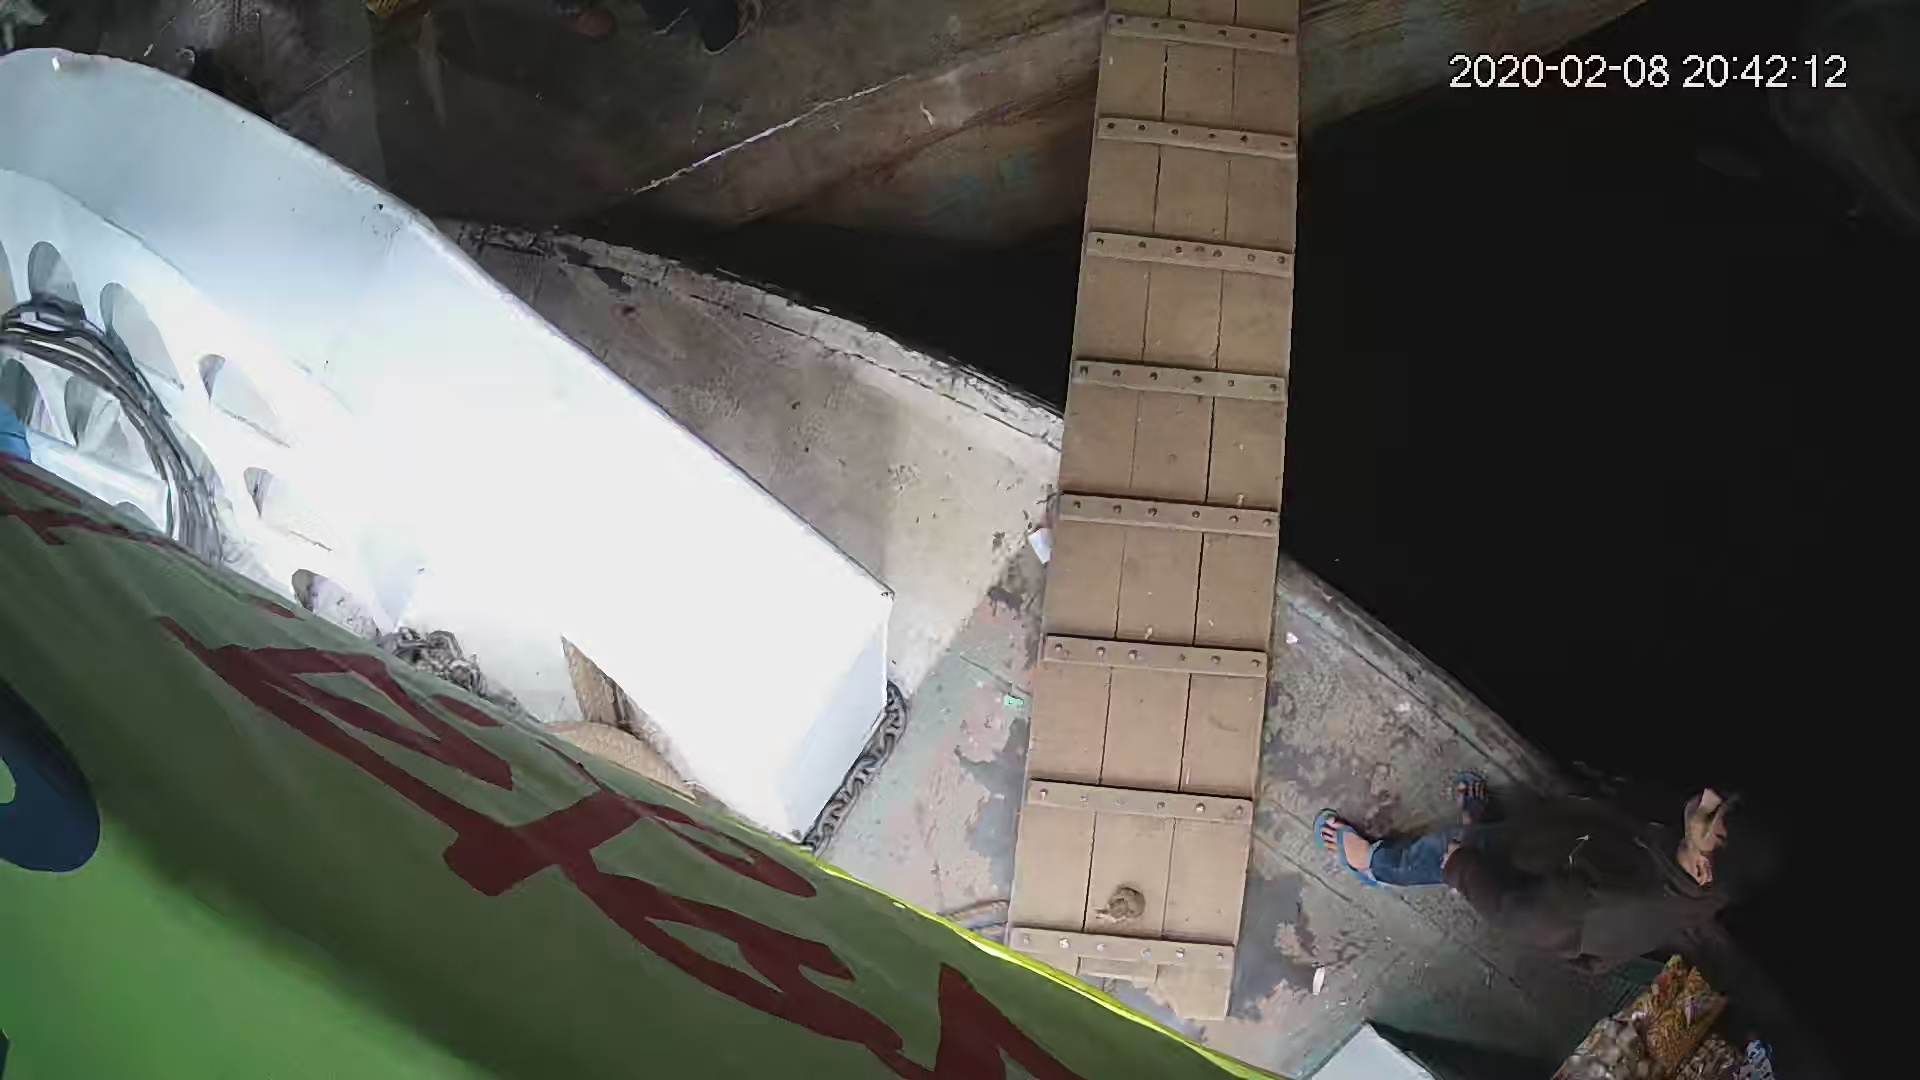person: (1311, 751, 1796, 966)
